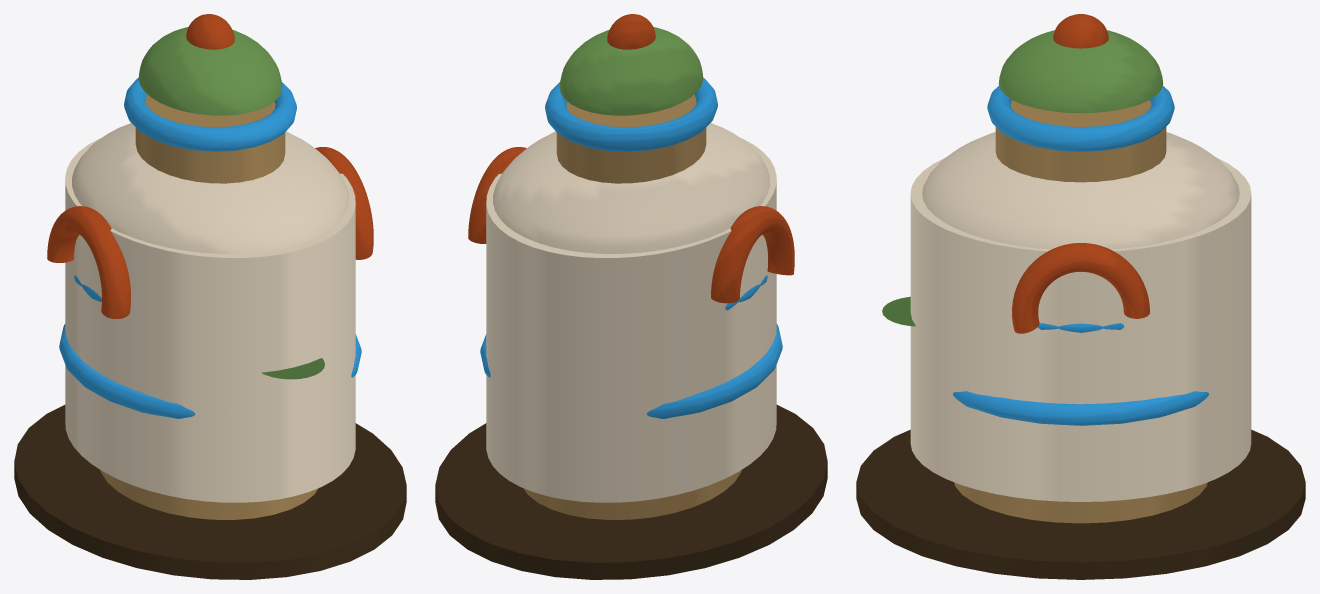
File: 1199_唐图鉴_坊门.glb
3 views of the same model, side by side, from view 1: azimuth 30°, elevation 25°; view 2: azimuth 150°, elevation 25°; view 3: azimuth 270°, elevation 25° (orthographic).
Parts seen in each view (by area): view 1: card_1199; view 2: card_1199; view 3: card_1199.
Boxes of the visible parts, x1,y1,x2,y2 form: card_1199: (14, 14, 406, 579); card_1199: (435, 14, 827, 579); card_1199: (856, 14, 1305, 579).
Size of the model in its own units: 0.7172 by 1 by 0.8424.
